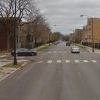crosswalk: (37, 59, 100, 63)
